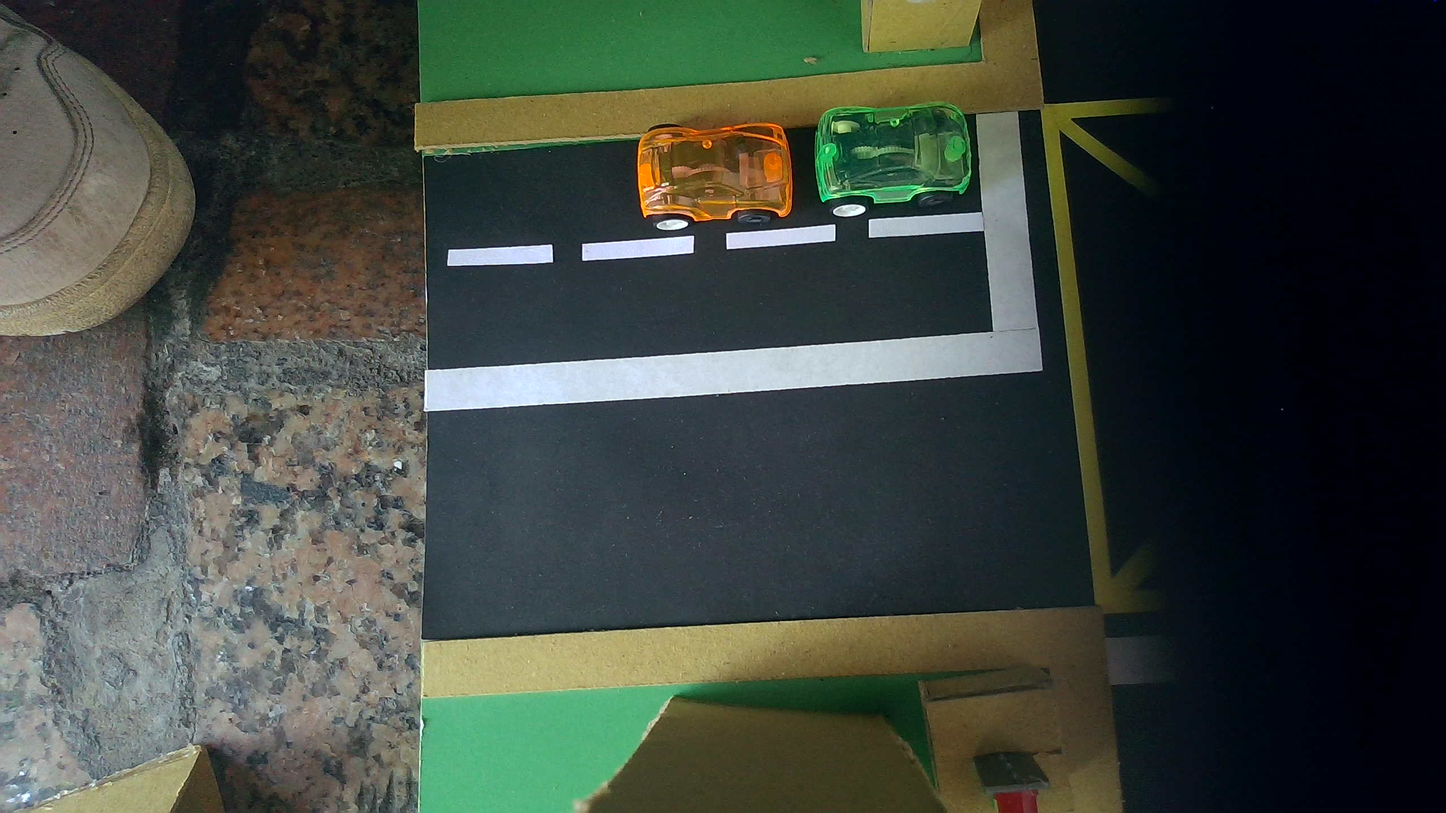Mobil hijau: (815, 103, 972, 217)
Mobil orange: (635, 123, 793, 230)
